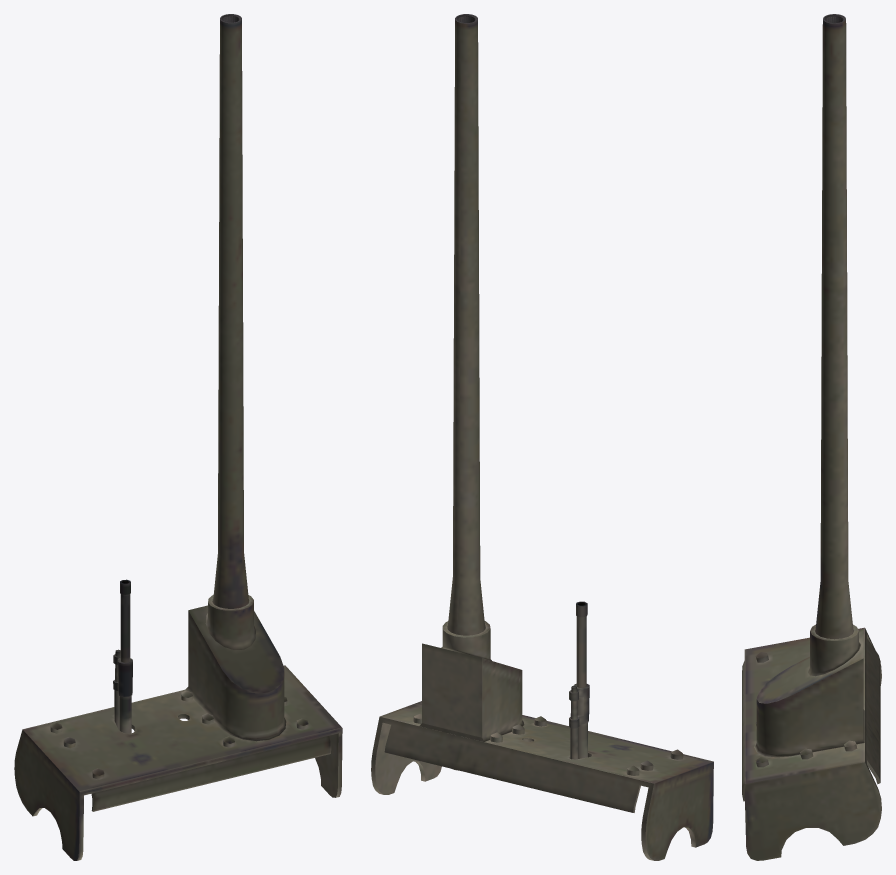
File: Gun_07.glb
3 renders of one model, left to right at view 1: azimuth 30°, elevation 25°; view 2: azimuth 150°, elevation 25°; view 3: azimuth 270°, elevation 25°, orthographic. The views are drawn at different scales.
Parts seen in each view (by area): view 1: set_0_group_0; view 2: set_0_group_0; view 3: set_0_group_0.
Boxes of the visible parts, left/top/right/bottom form: set_0_group_0: left=14, top=14, right=342, bottom=860; set_0_group_0: left=371, top=14, right=713, bottom=860; set_0_group_0: left=742, top=14, right=881, bottom=860.
Bounding box in the file's own units: 0.6539 × 1.83 × 0.2871.
1 material, 1 textured.
